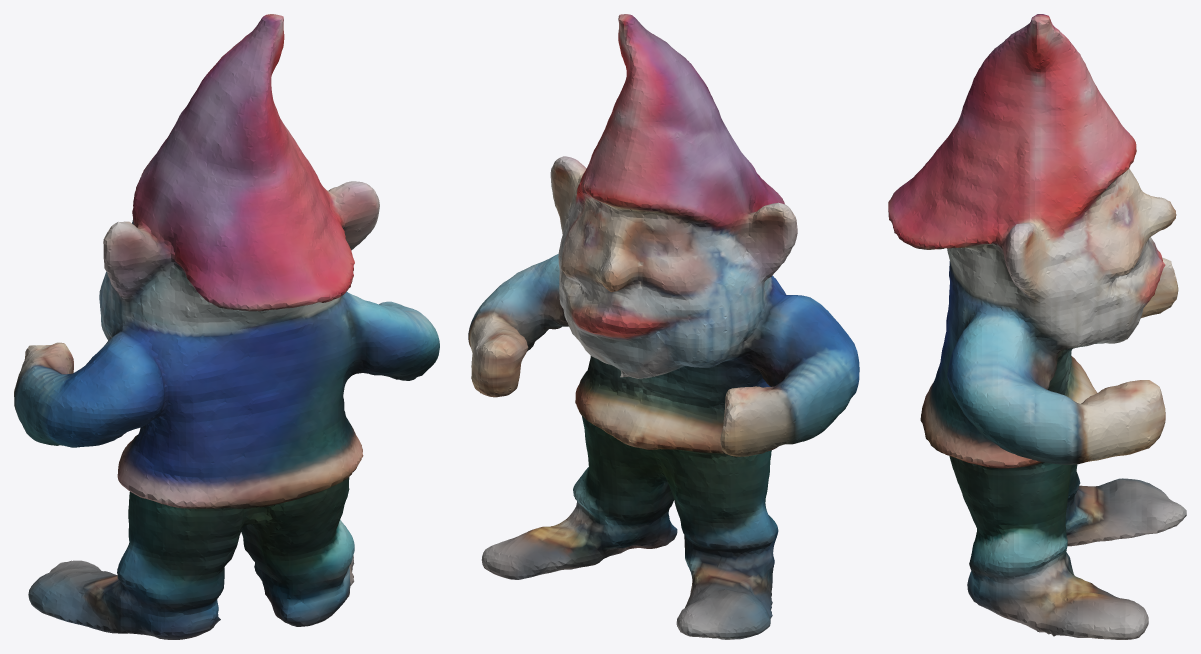
Rendered from full.glb.
3 renders of one model, left to right at view 1: azimuth 30°, elevation 25°; view 2: azimuth 150°, elevation 25°; view 3: azimuth 270°, elevation 25°, orthographic. The views are drawn at different scales.
Visible parts, largest first — view 1: world; view 2: world; view 3: world.
Part boxes in pixels (box(x1,y1,x2,y2)): world: box(14, 14, 439, 639); world: box(468, 14, 859, 639); world: box(888, 14, 1186, 639).
Bounding box in the file's own units: 1.38 × 1.98 × 0.9217.
